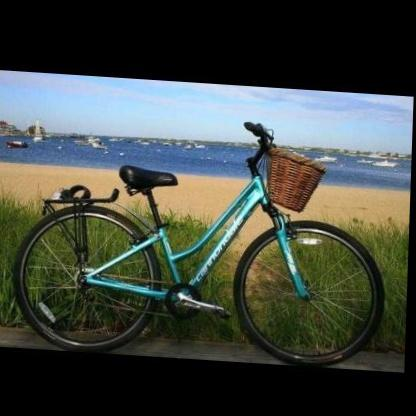Bicycle: (3, 103, 401, 356)
